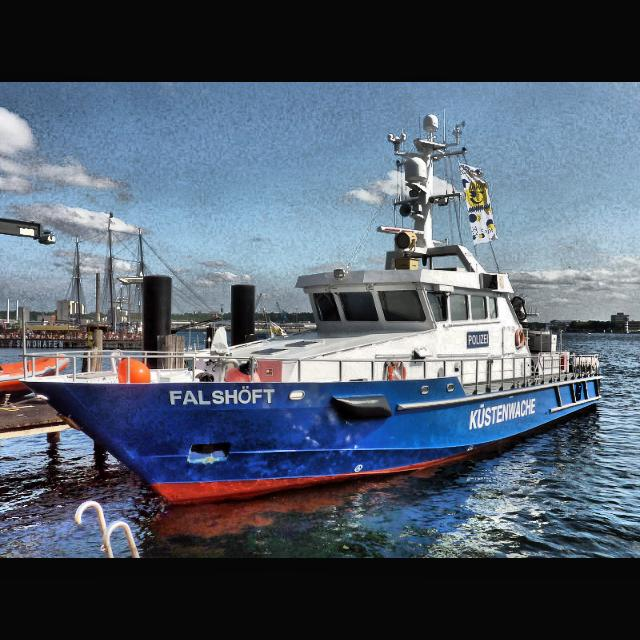patrol_vessel: (15, 108, 609, 508)
